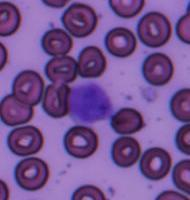L: (67, 78, 115, 124)
